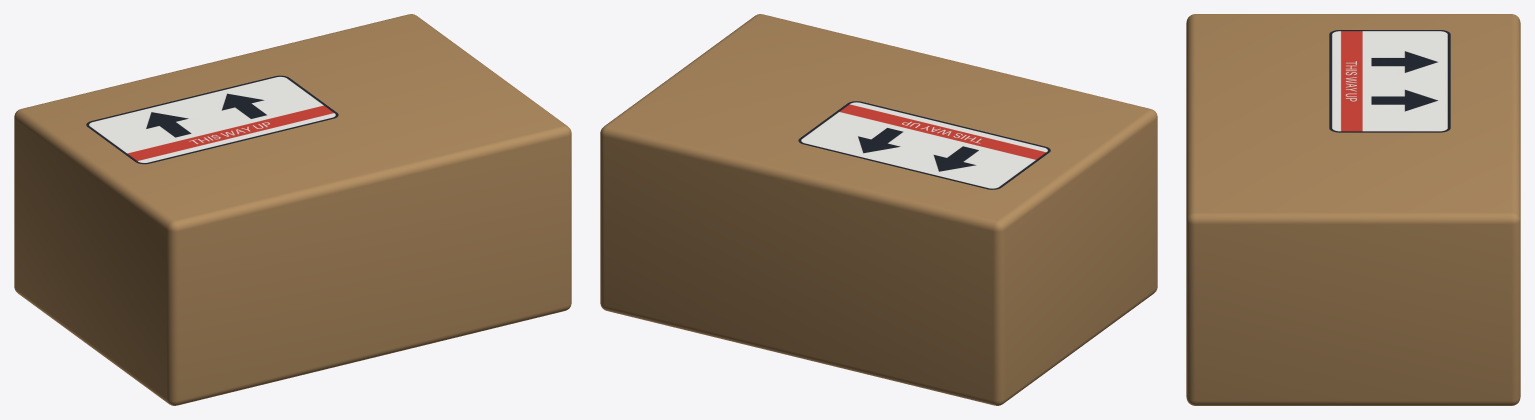
File: mat_decal.glb
The picture shows the model from 3 angles, left to right: view 1: azimuth 30°, elevation 25°; view 2: azimuth 150°, elevation 25°; view 3: azimuth 270°, elevation 25°; orthographic projection. The views are drawn at different scales.
Visible parts, largest first — view 1: parcel, label; view 2: parcel, label; view 3: parcel, label.
Boxes of the visible parts, left/top/right/bottom form: parcel: left=14, top=14, right=571, bottom=405; label: left=86, top=75, right=338, bottom=164; parcel: left=600, top=14, right=1157, bottom=405; label: left=798, top=101, right=1050, bottom=189; parcel: left=1186, top=14, right=1520, bottom=405; label: left=1329, top=30, right=1450, bottom=132.
Size of the model in its own units: 0.16 by 0.0701 by 0.11.
Materials: 2 (1 with a texture image).
